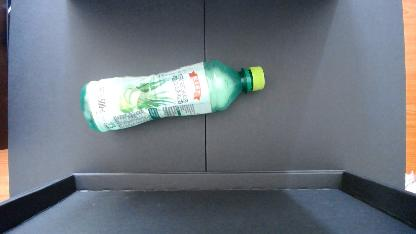Plastic Bottle: (81, 61, 265, 133)
